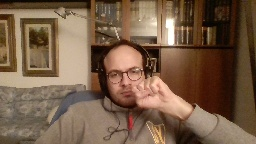Pugno: (131, 75, 173, 110)
